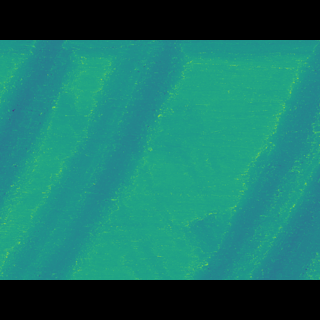Loch: (0, 70, 189, 249), (193, 72, 320, 249)
